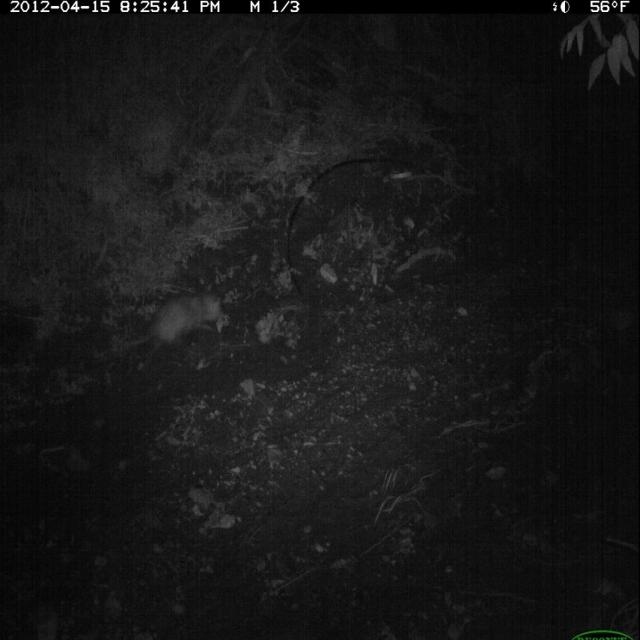opossum: (97, 278, 238, 358)
